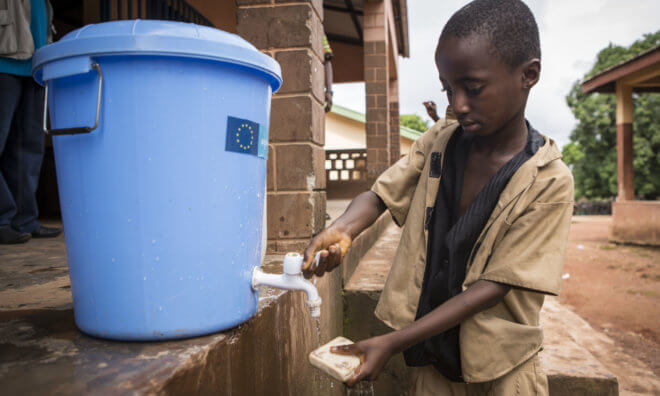without_mask: (444, 47, 498, 140)
